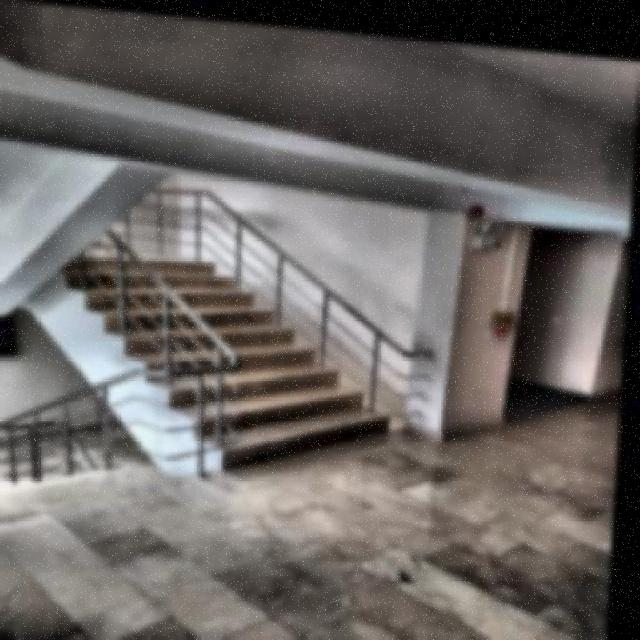stair: (56, 252, 410, 470)
